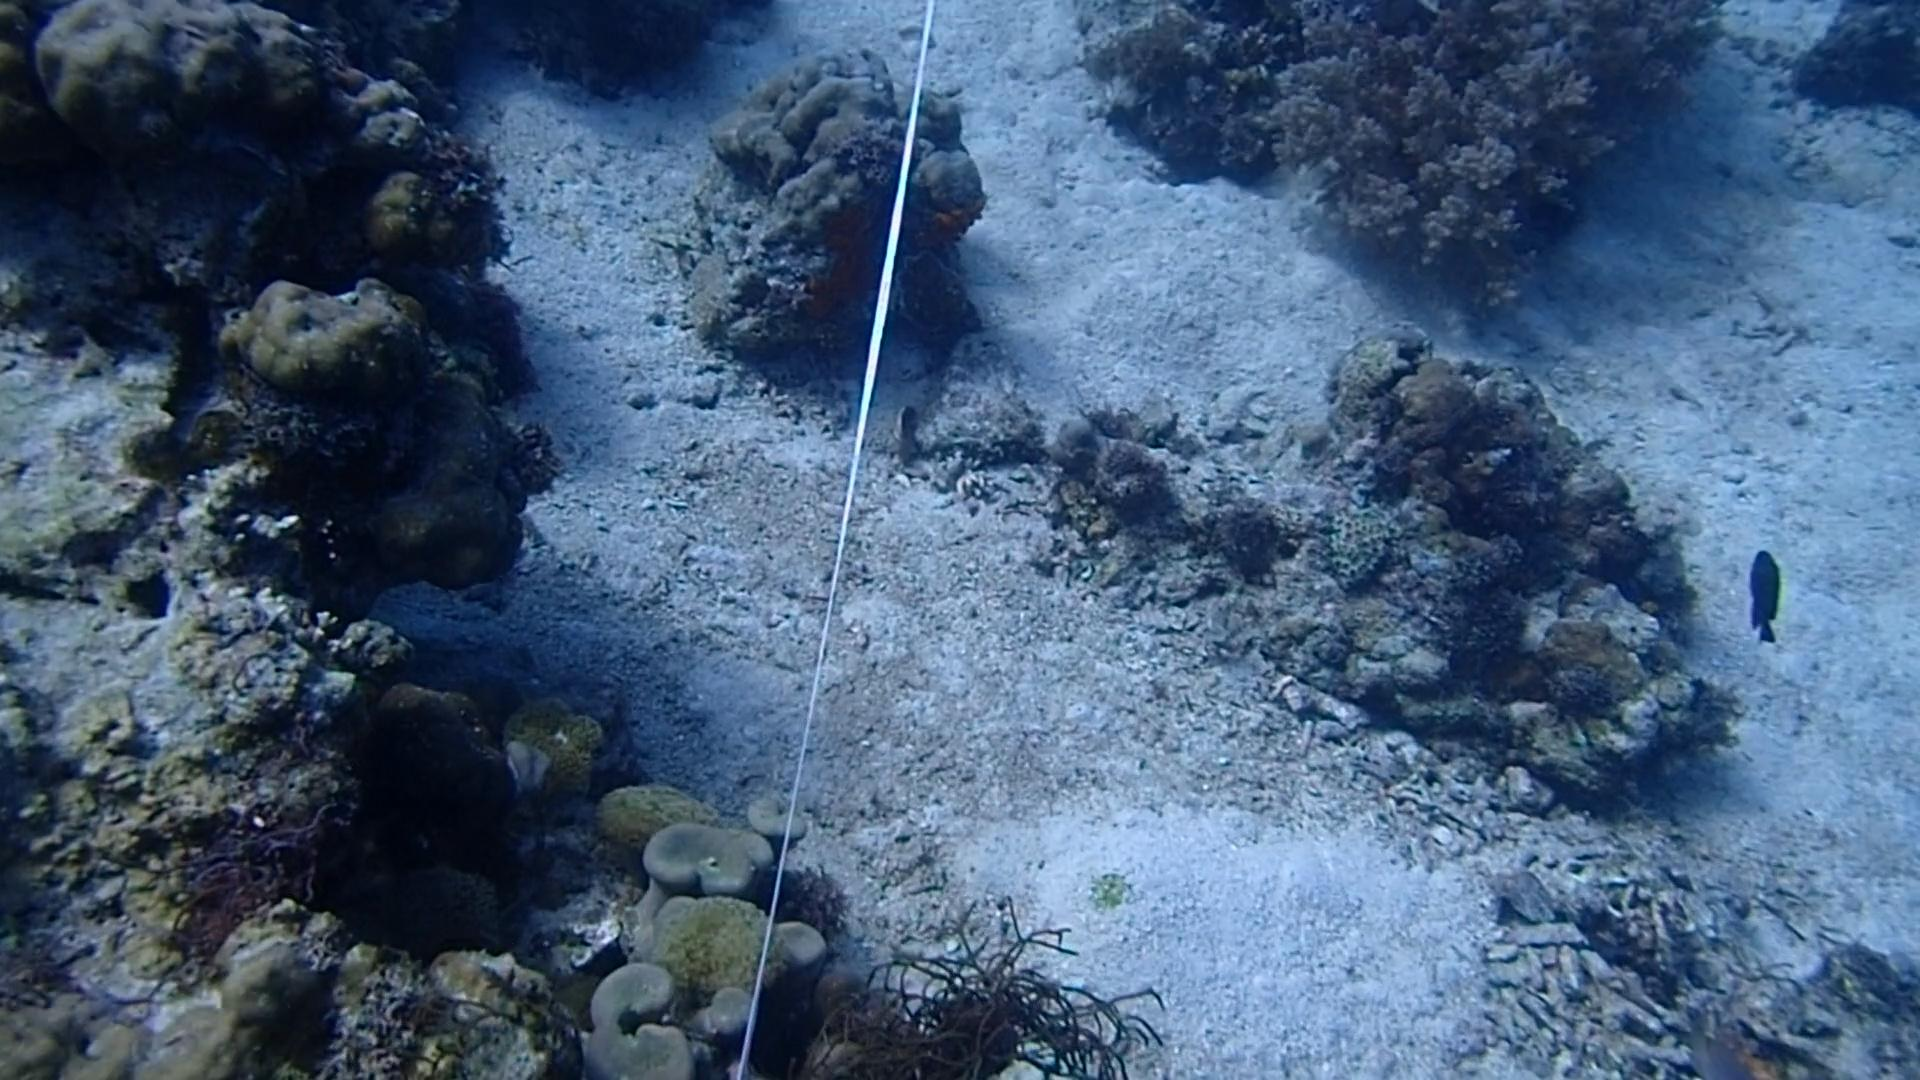Dark Fish: (1725, 545, 1808, 642)
